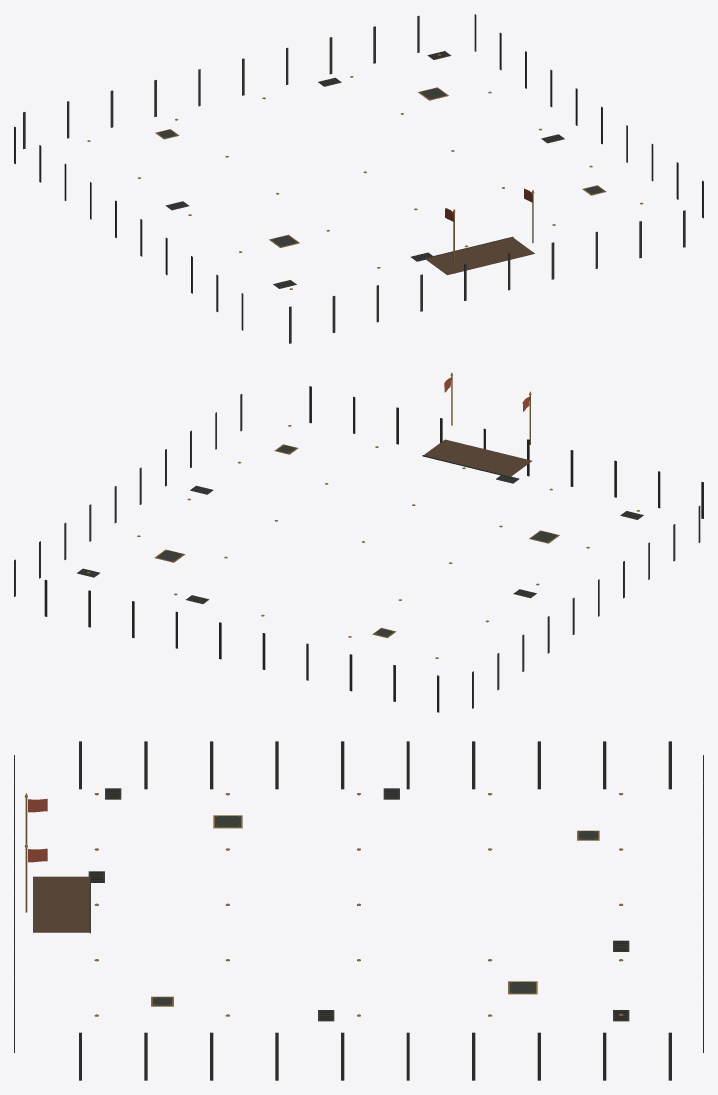
The model's file is opening_set.glb.
3 views of the same model, one above another, from view 1: azimuth 30°, elevation 25°; view 2: azimuth 150°, elevation 25°; view 3: azimuth 270°, elevation 25° (orthographic). The views are drawn at different scales.
Parts seen in each view (by area): view 1: opening_set; view 2: opening_set; view 3: opening_set.
Part boxes in pixels (x1,y1,x2,y2): opening_set: [14, 14, 703, 343]; opening_set: [14, 372, 703, 712]; opening_set: [14, 741, 703, 1080].
Bounding box in the file's own units: 42.12 × 7.85 × 42.12.
